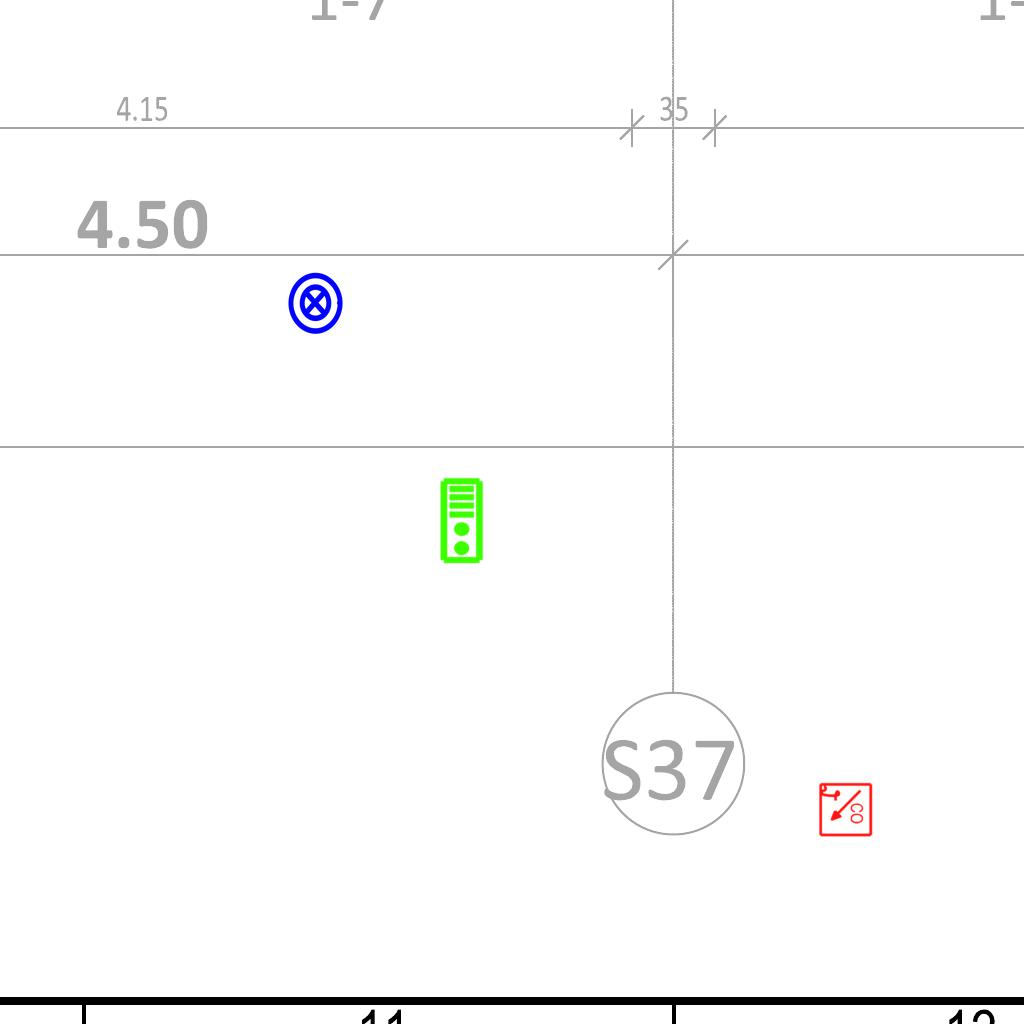Gegensprechanlage_mit_Video: (439, 477, 486, 565)
ROA_Rauchmelder_optisch_mit_Signalgeber_(Sockelsirene): (817, 782, 873, 838)
Taster_beleuchtet: (282, 270, 348, 336)
